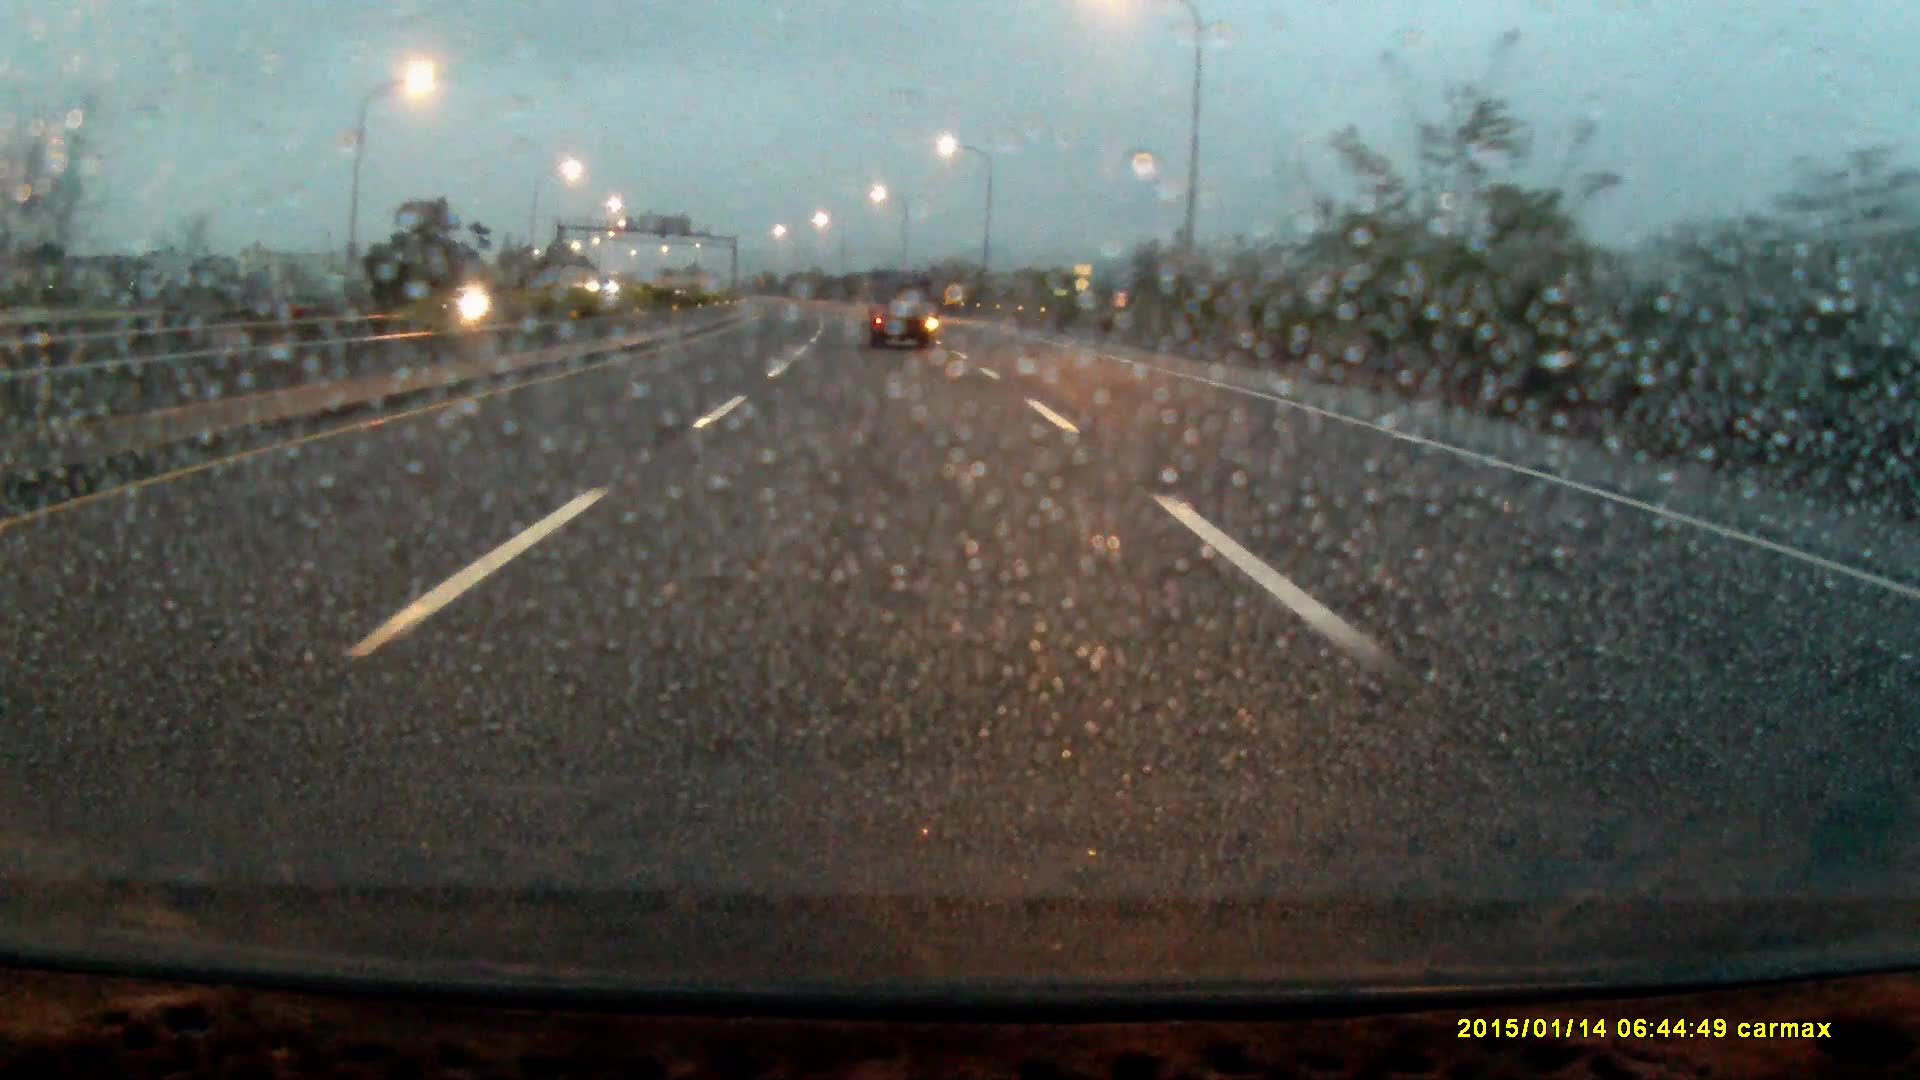vehicle: (866, 269, 936, 352), (435, 282, 504, 320)
